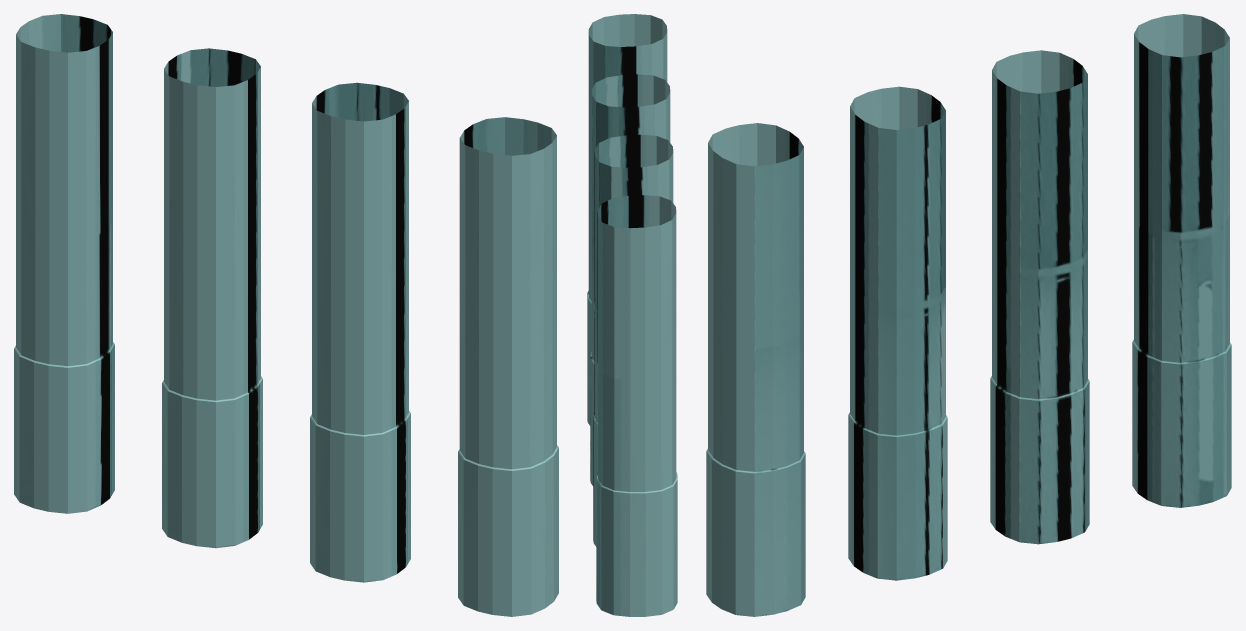
The model's file is tubes_1.glb.
3 views of the same model, side by side, from view 1: azimuth 30°, elevation 25°; view 2: azimuth 150°, elevation 25°; view 3: azimuth 270°, elevation 25° (orthographic). The views are drawn at different scales.
Visible parts, largest first — view 1: Tubes.001; view 2: Tubes.001; view 3: Tubes.001.
Boxes of the visible parts, x1=… form: Tubes.001: x1=14, y1=14, x2=558, y2=616; Tubes.001: x1=587, y1=14, x2=677, y2=616; Tubes.001: x1=706, y1=14, x2=1231, y2=616.
Size of the model in its own units: 4.23 by 5.9 by 6.2.
Materials: 1 (1 with a texture image).
